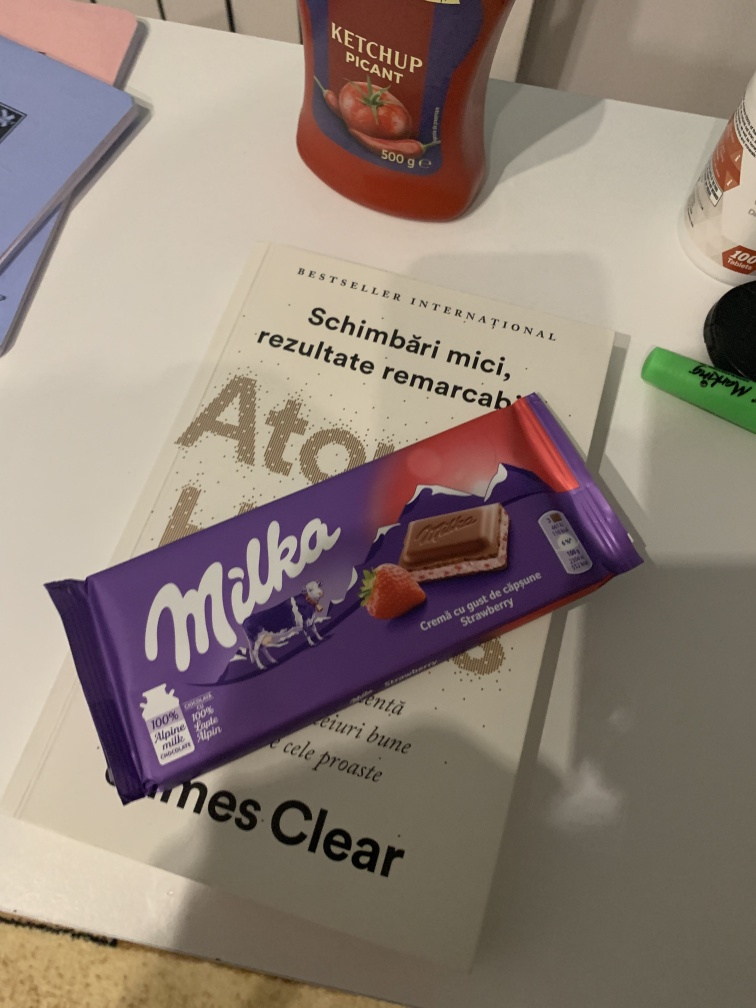ketchup: (263, 2, 527, 232)
milka: (42, 387, 648, 815)
